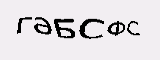Б: (54, 17, 76, 39)
Г: (15, 17, 32, 34)
С: (77, 18, 104, 40), (126, 19, 142, 37)
Ф: (107, 20, 125, 37)
Ә: (33, 16, 52, 36)
